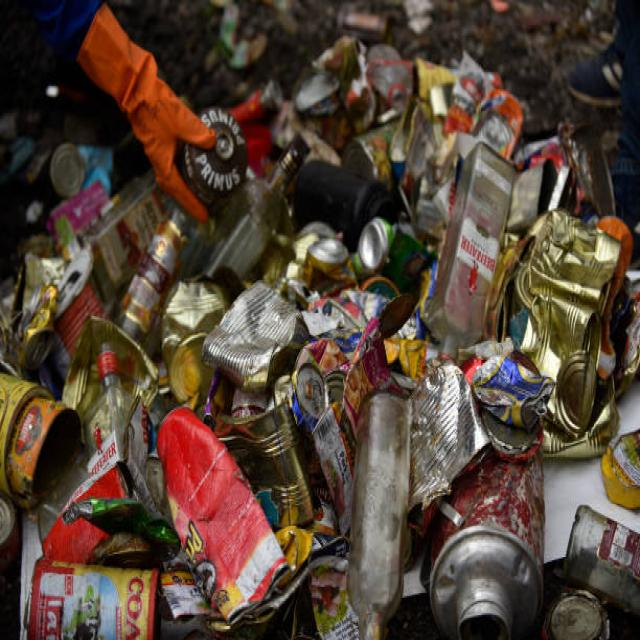metal: (48, 154, 607, 592)
